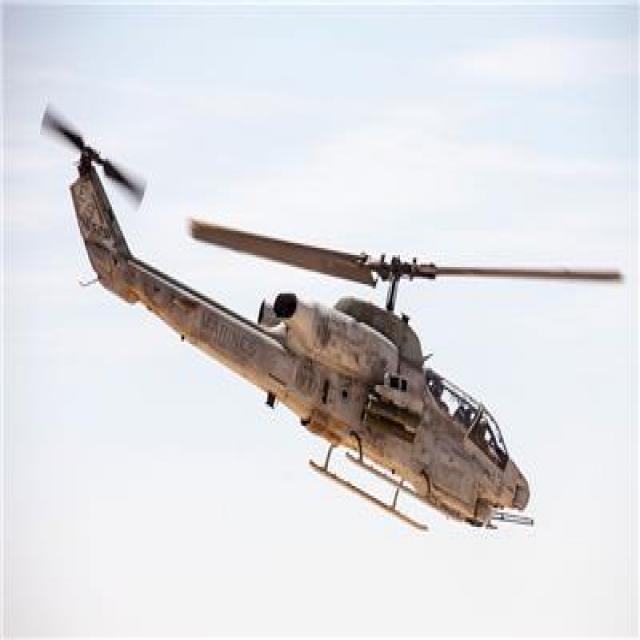MIL_HELO: (39, 97, 640, 558)
